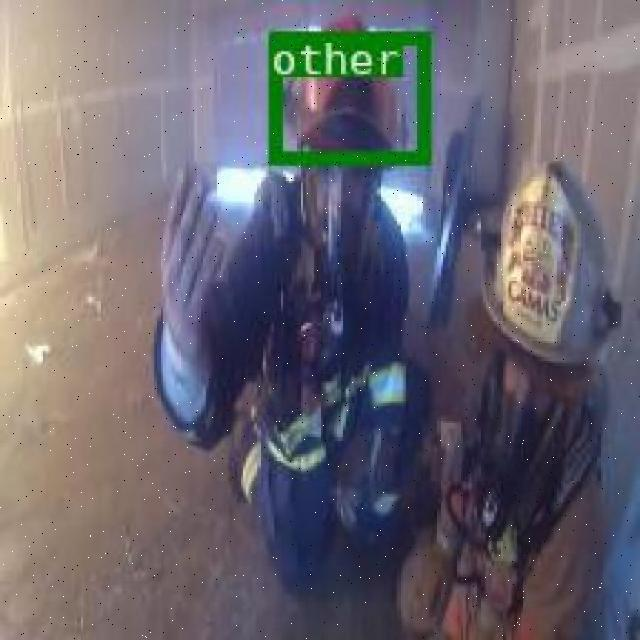Smoke: (268, 29, 428, 162)
